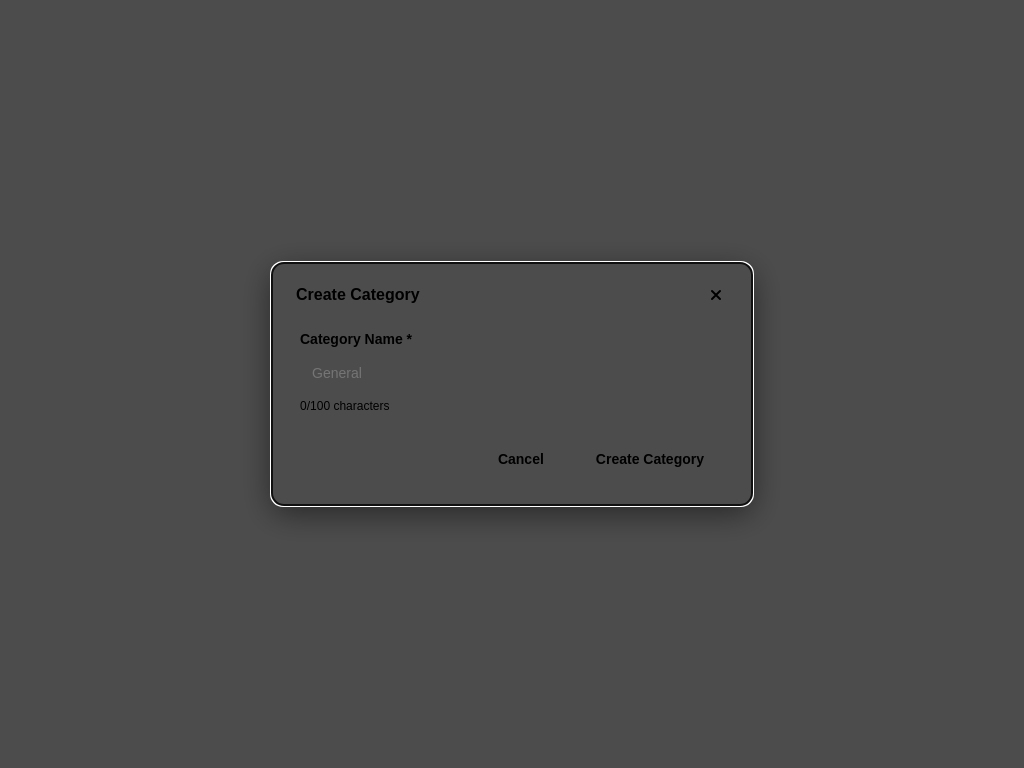
CreateCategoryModal › shows validation error for empty name
The image size is (1024, 768).
Click the button "Create Category": (650, 459) [576,441,724,477]
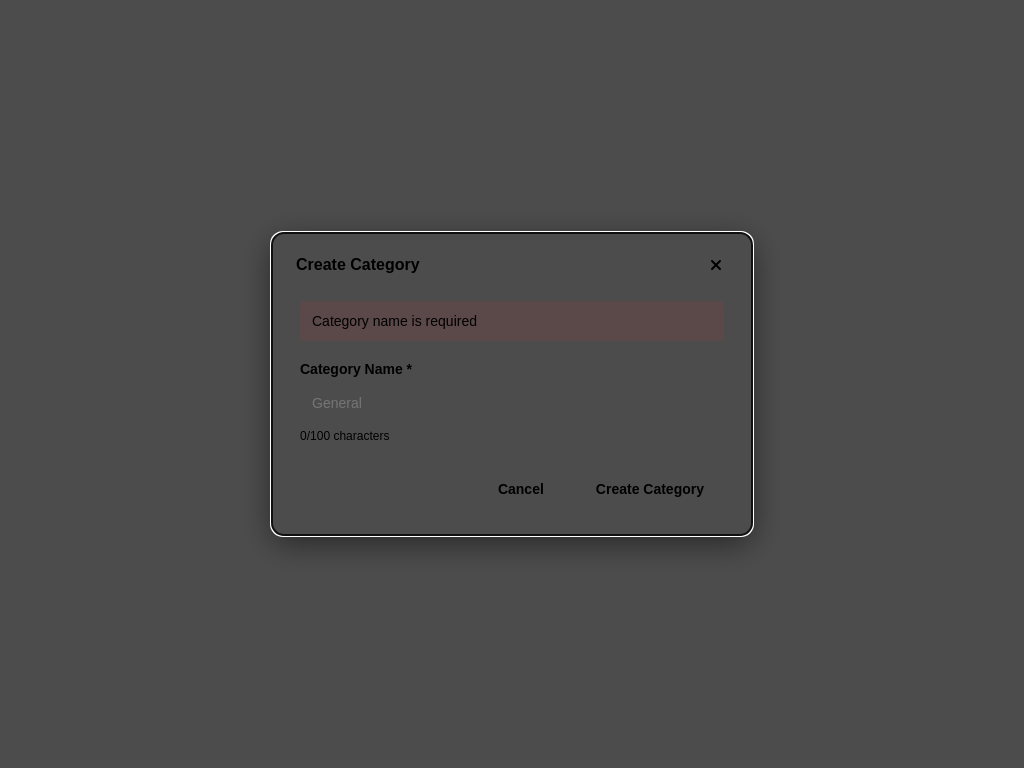
Now the text "Category name is required" is shown, box [300,301,724,341]
